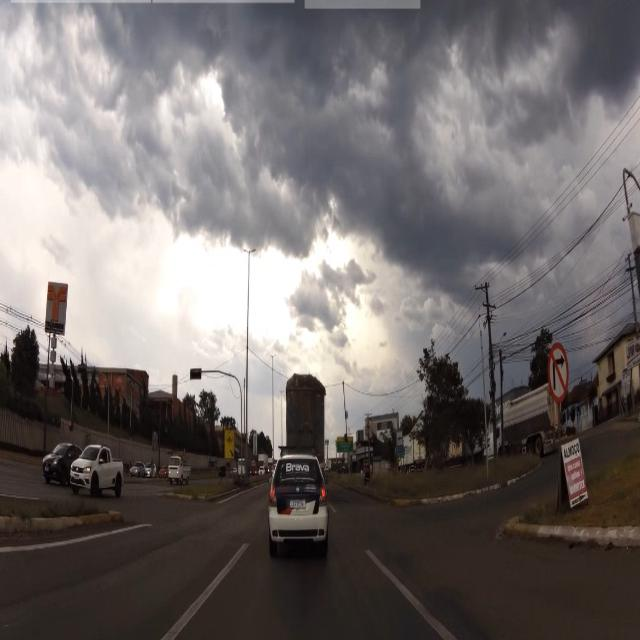R-4b: (550, 342, 570, 409)
